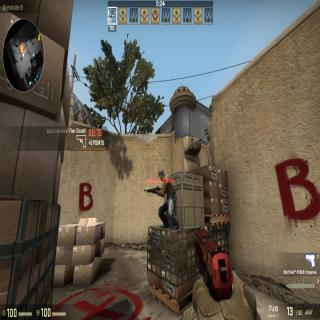T-Body: (152, 168, 180, 230)
T-Head: (157, 166, 167, 180)
